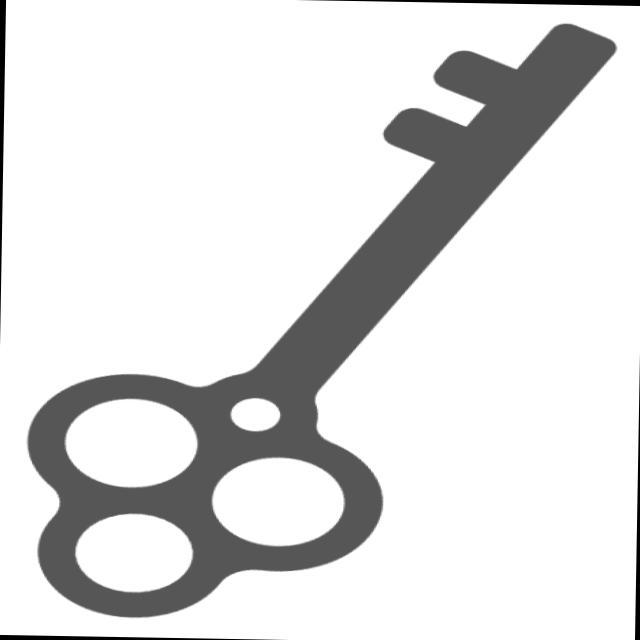key: (14, 5, 624, 639)
